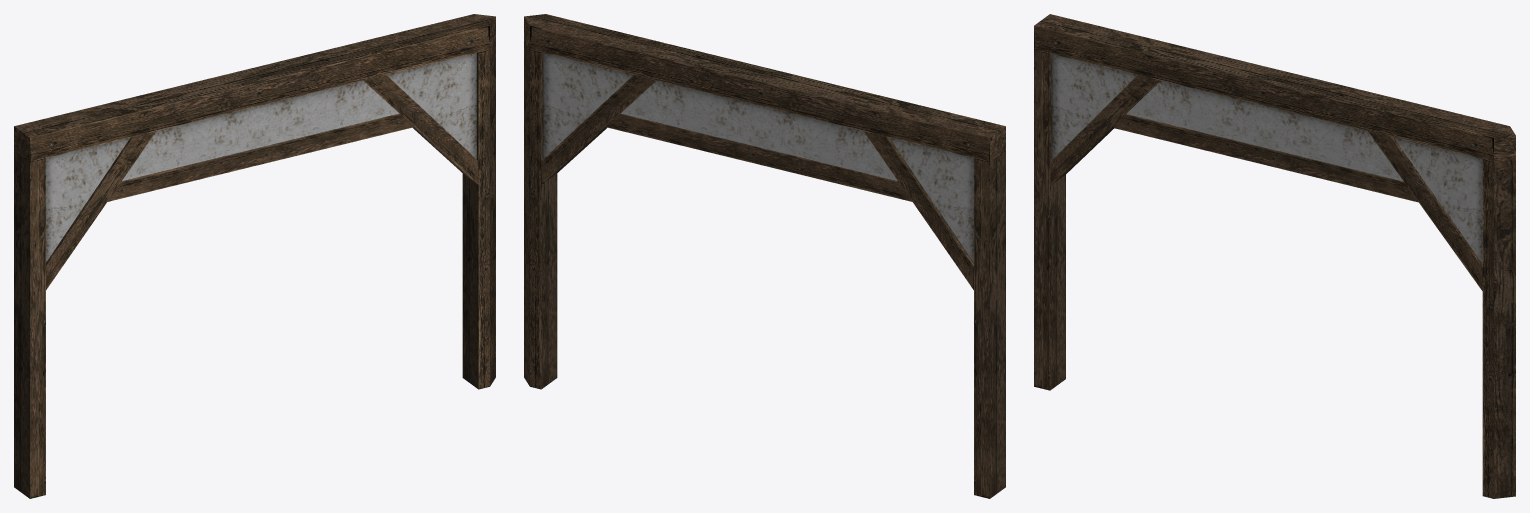
Rendered from timberWallArched.dae.
3 views of the same model, side by side, from view 1: azimuth 30°, elevation 25°; view 2: azimuth 150°, elevation 25°; view 3: azimuth 330°, elevation 25° (orthographic).
Parts seen in each view (by area): view 1: timberWallArched; view 2: timberWallArched; view 3: timberWallArched.
Boxes of the visible parts, x1,y1,x2,y2 form: timberWallArched: (14, 14, 495, 498); timberWallArched: (524, 14, 1005, 498); timberWallArched: (1034, 14, 1515, 498).
Bounding box in the file's own units: 4.12 × 3 × 0.24.
Materials: 1 (1 with a texture image).
